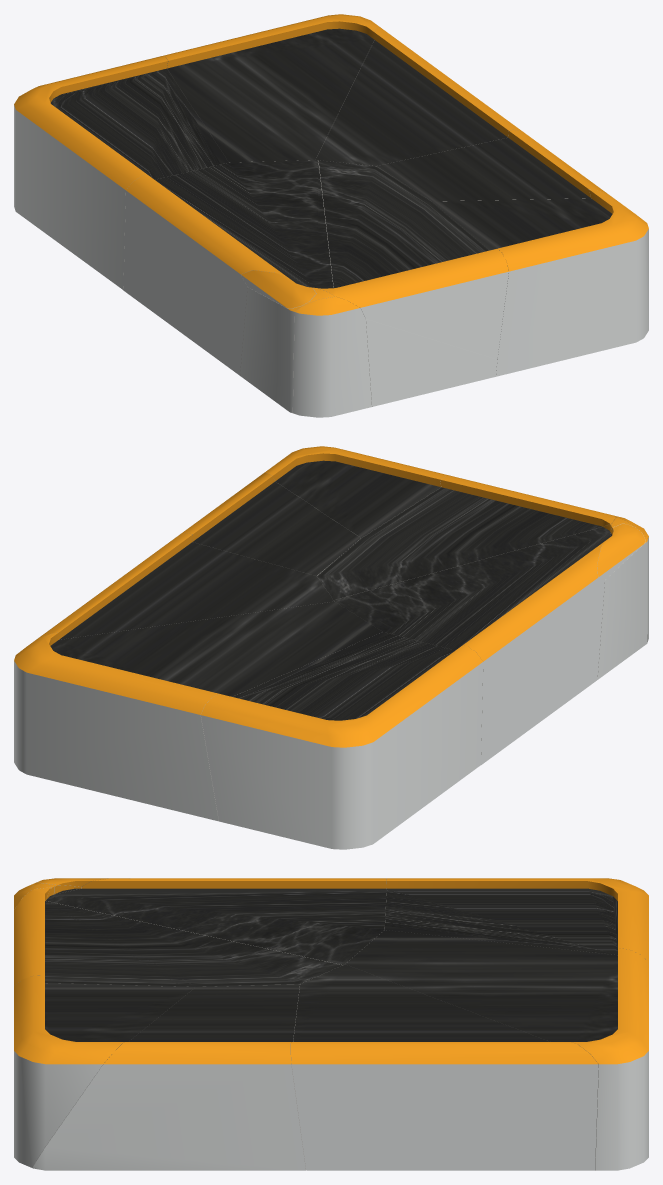
Rendered from Ban_Mid_Fractured.fbx.
3 renders of one model, top to bottom at view 1: azimuth 30°, elevation 25°; view 2: azimuth 150°, elevation 25°; view 3: azimuth 270°, elevation 25°, orthographic. The views are drawn at different scales.
Visible parts, largest first — view 1: polySurface64_cell.004, polySurface64_cell.003, polySurface64_cell.005, polySurface64_cell.007, polySurface64_cell.008, polySurface64_cell.009, polySurface64_cell.001, polySurface64_cell.006, polySurface64_cell, polySurface64_cell.002; view 2: polySurface64_cell.003, polySurface64_cell.008, polySurface64_cell.004, polySurface64_cell.007, polySurface64_cell.009, polySurface64_cell.001, polySurface64_cell.005, polySurface64_cell, polySurface64_cell.002; view 3: polySurface64_cell.009, polySurface64_cell.001, polySurface64_cell.008, polySurface64_cell.004, polySurface64_cell.007, polySurface64_cell.003, polySurface64_cell.005.
Boxes of the visible parts, left/top/right/bottom form: polySurface64_cell.004: left=123, top=160, right=497, bottom=406; polySurface64_cell.003: left=14, top=56, right=228, bottom=289; polySurface64_cell.005: left=432, top=189, right=648, bottom=376; polySurface64_cell.007: left=318, top=160, right=508, bottom=359; polySurface64_cell.008: left=161, top=14, right=379, bottom=162; polySurface64_cell.009: left=316, top=27, right=522, bottom=166; polySurface64_cell.001: left=376, top=130, right=648, bottom=330; polySurface64_cell.006: left=293, top=296, right=371, bottom=417; polySurface64_cell: left=240, top=287, right=334, bottom=413; polySurface64_cell.002: left=241, top=270, right=315, bottom=308; polySurface64_cell.003: left=200, top=632, right=483, bottom=849; polySurface64_cell.008: left=14, top=601, right=382, bottom=821; polySurface64_cell.004: left=334, top=524, right=611, bottom=764; polySurface64_cell.007: left=317, top=476, right=616, bottom=600; polySurface64_cell.009: left=36, top=533, right=333, bottom=639; polySurface64_cell.001: left=179, top=472, right=360, bottom=575; polySurface64_cell.005: left=265, top=446, right=451, bottom=537; polySurface64_cell: left=597, top=517, right=647, bottom=679; polySurface64_cell.002: left=597, top=523, right=645, bottom=579; polySurface64_cell.009: left=291, top=964, right=598, bottom=1170; polySurface64_cell.001: left=32, top=984, right=305, bottom=1170; polySurface64_cell.008: left=345, top=930, right=648, bottom=1170; polySurface64_cell.004: left=45, top=878, right=386, bottom=965; polySurface64_cell.007: left=14, top=887, right=342, bottom=986; polySurface64_cell.003: left=385, top=878, right=648, bottom=961; polySurface64_cell.005: left=14, top=975, right=195, bottom=1167.
Size of the model in its own units: 535 by 162 by 788.
